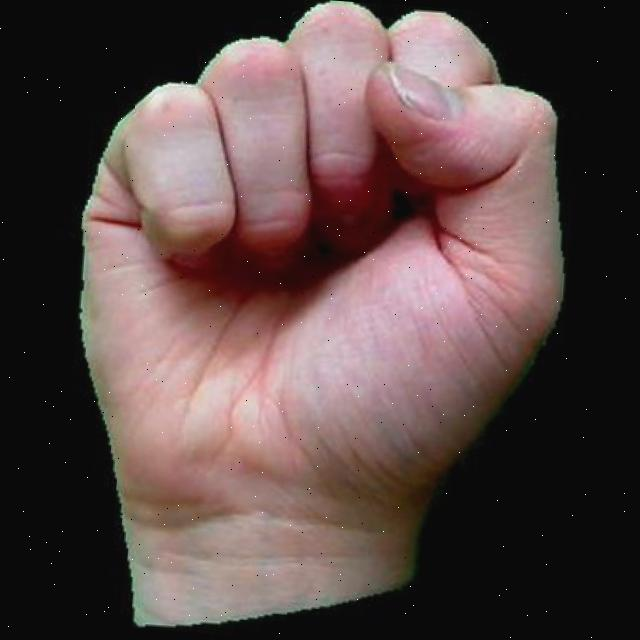s: (26, 0, 583, 640)
